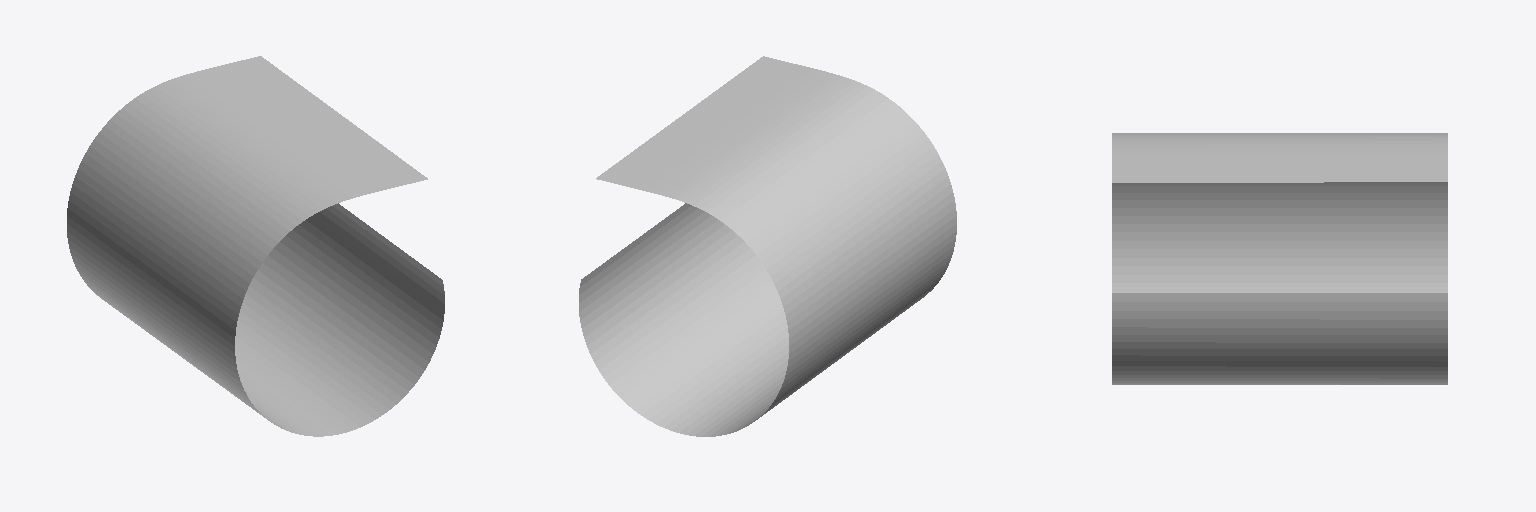
The model's file is CurvePaper_000018.obj.
3 renders of one model, left to right at view 1: azimuth 30°, elevation 25°; view 2: azimuth 150°, elevation 25°; view 3: azimuth 270°, elevation 25°, orthographic.
Visible parts, largest first — view 1: Plane; view 2: Plane; view 3: Plane.
Boxes of the visible parts, <box> form: Plane: <box>67,56,444,436</box>; Plane: <box>579,56,956,436</box>; Plane: <box>1112,133,1447,384</box>.
Bounding box in the file's own units: 1.64 × 1.74 × 2.26.